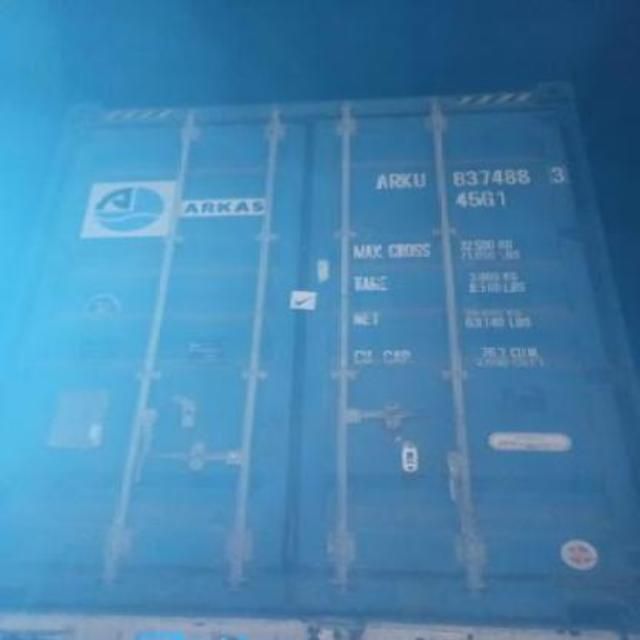3: (548, 162, 570, 186), (464, 164, 476, 186)
4: (488, 162, 504, 188)
7: (476, 162, 489, 188)
8: (516, 158, 532, 188), (452, 165, 466, 189), (504, 158, 516, 186)
A: (370, 168, 386, 194)
K: (398, 170, 412, 192)
R: (388, 170, 400, 192)
U: (412, 166, 428, 194)
